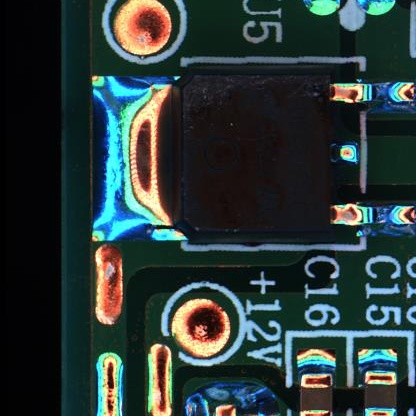spot: (170, 297, 230, 356), (182, 382, 283, 416), (113, 1, 172, 57)
